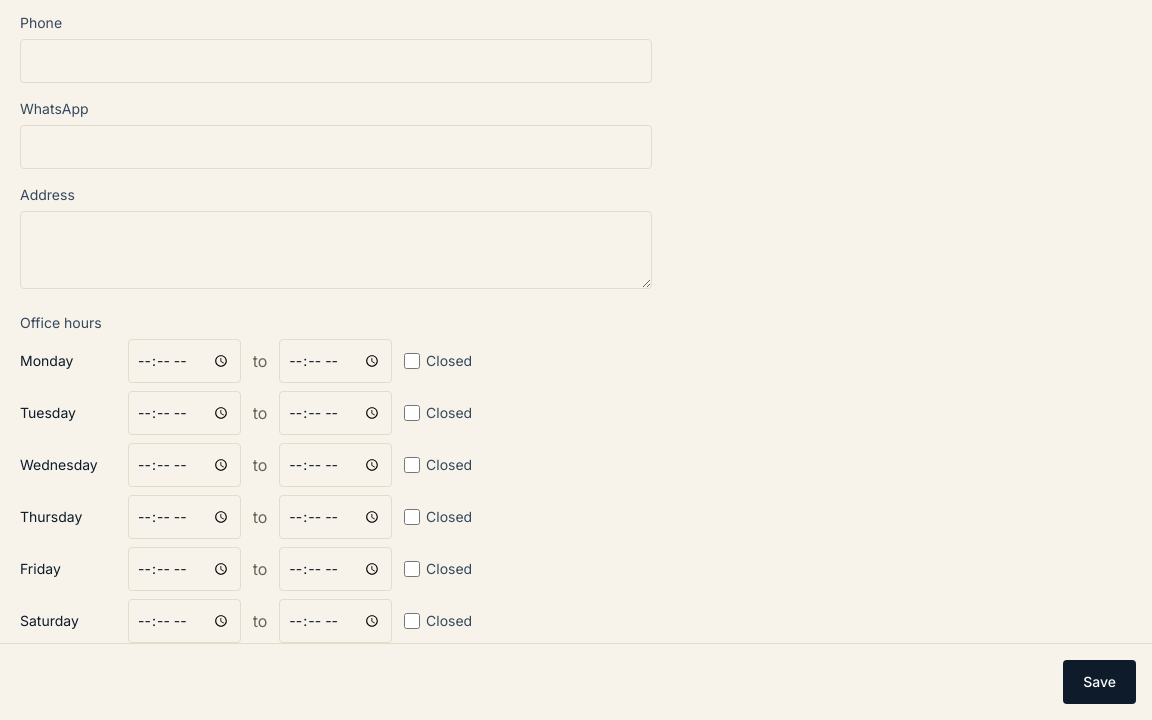
Test: SettingsForm › disables a day's time inputs once it is marked closed
(page scrolled)
Expected: the 1st time field named "officeHours.monday.opensAt" is enabled, [128,339,241,383]
Click the checkbox labelled "Closed" in the row of "Monday" at {"x": 412, "y": 361}, box [404,353,420,369]
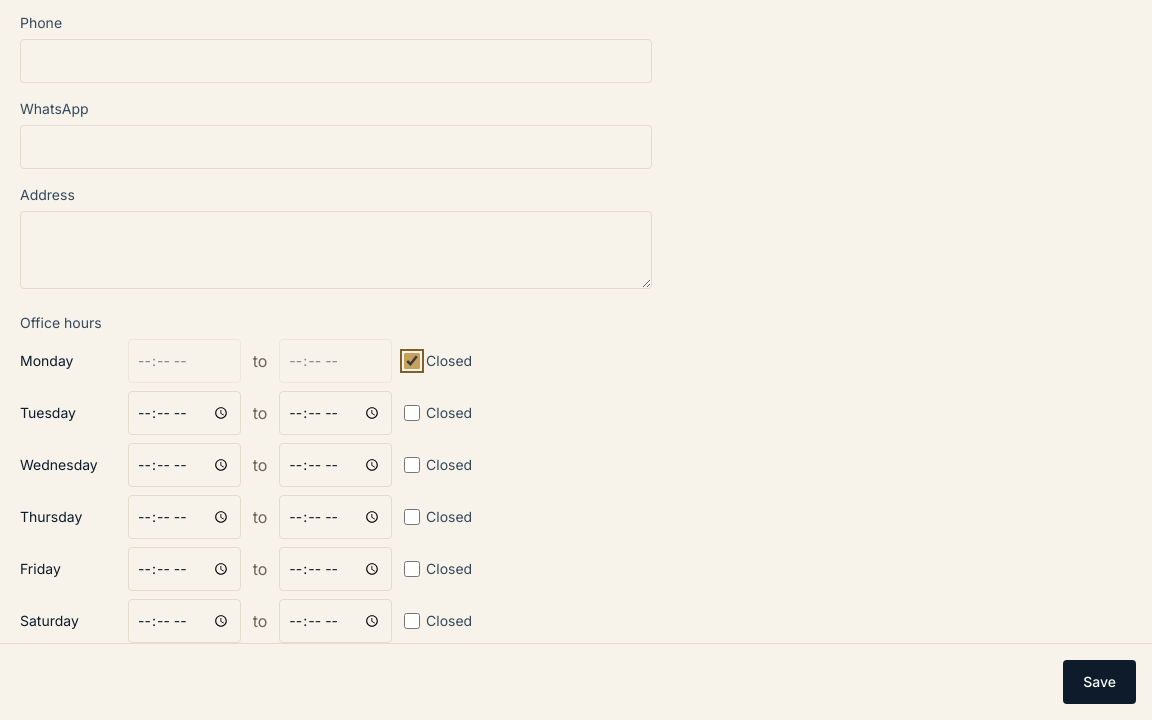
Expected: the 1st time field named "officeHours.monday.opensAt" is disabled, [128,339,241,383]
